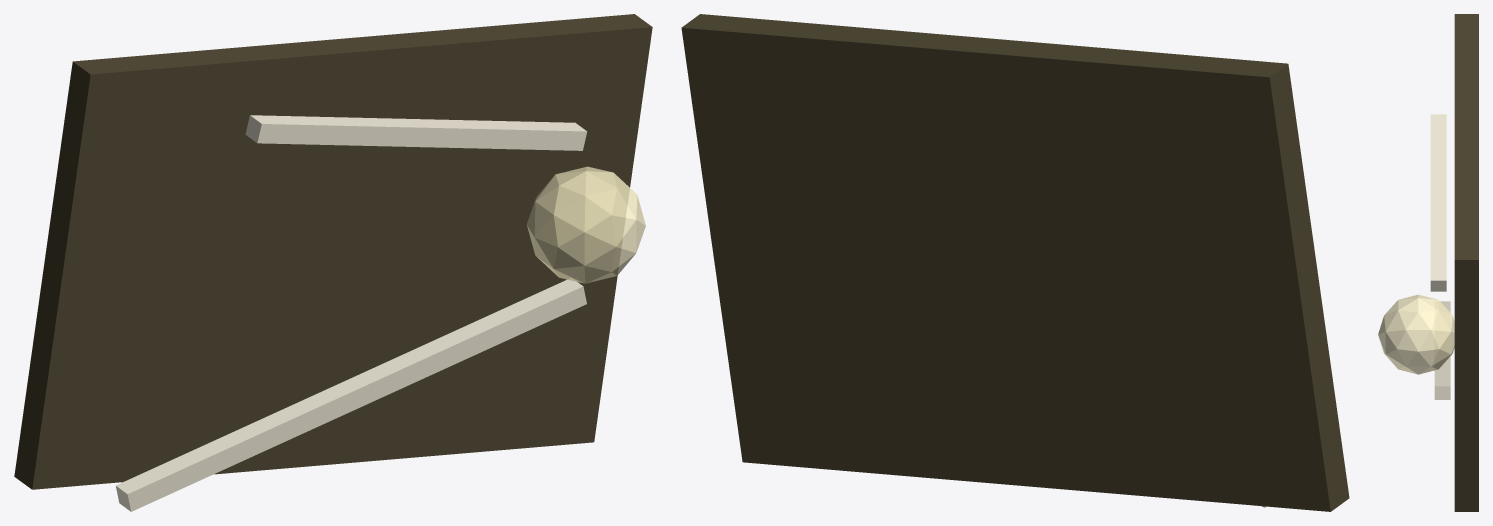
The model's file is 02_world_prop_polish.glb.
3 renders of one model, left to right at view 1: azimuth 30°, elevation 25°; view 2: azimuth 150°, elevation 25°; view 3: azimuth 270°, elevation 25°, orthographic. The views are drawn at different scales.
Visible parts, largest first — view 1: object_overlay_plate, edge_wear_a, glow_socket, edge_wear_b; view 2: object_overlay_plate; view 3: object_overlay_plate, glow_socket, edge_wear_b, edge_wear_a.
Part boxes in pixels (box(x1,y1,x2,y2)): object_overlay_plate: box(14, 14, 652, 489); edge_wear_a: box(116, 278, 586, 511); glow_socket: box(526, 166, 645, 283); edge_wear_b: box(245, 115, 587, 150); object_overlay_plate: box(681, 14, 1349, 511); object_overlay_plate: box(1454, 14, 1478, 511); glow_socket: box(1378, 294, 1454, 374); edge_wear_b: box(1430, 114, 1446, 291); edge_wear_a: box(1434, 301, 1450, 399).
Bounding box in the file's own units: 1.2 × 0.9072 × 0.25.
